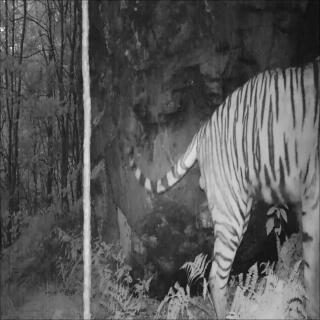Tiger: (126, 55, 320, 320)
